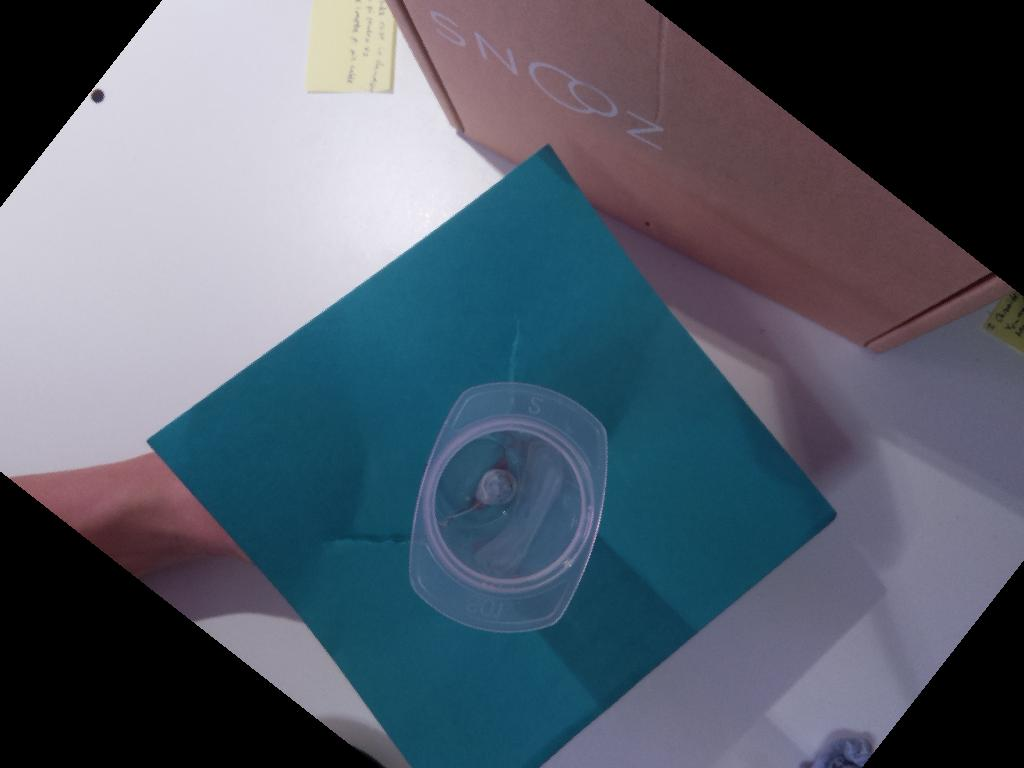clean: (405, 381, 610, 634)
